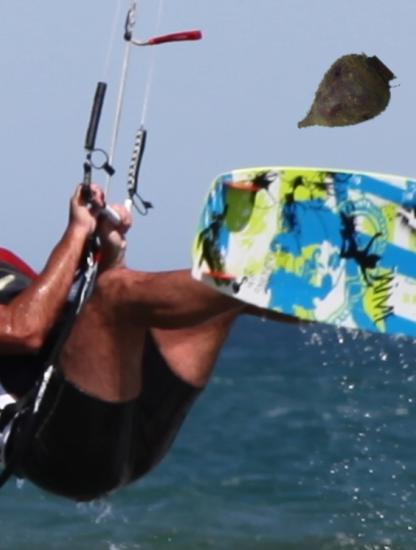Beetroot: (292, 45, 401, 154)
